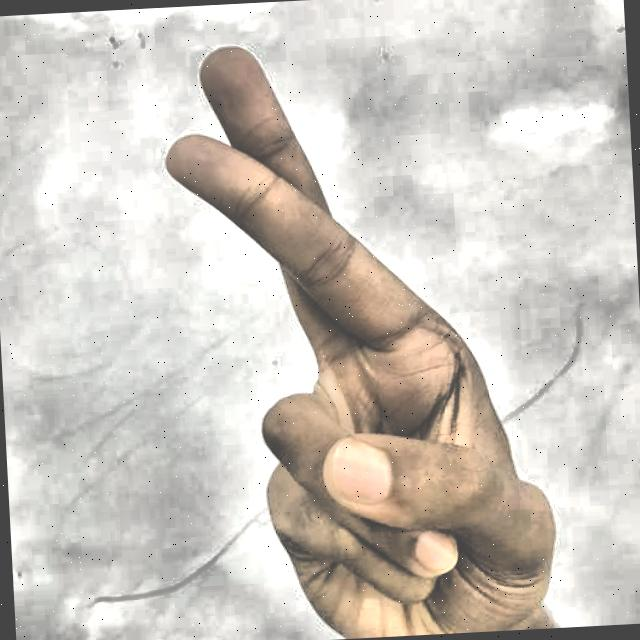Ra: (106, 10, 570, 640)
